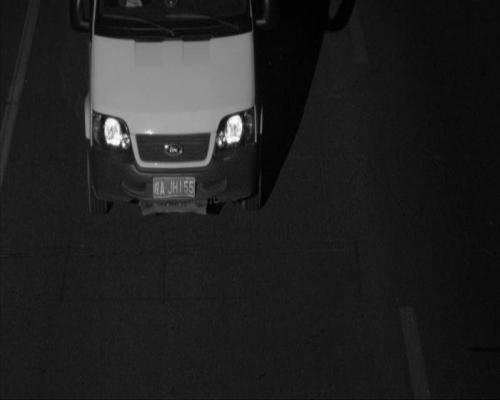Carplate: (148, 171, 201, 204)
